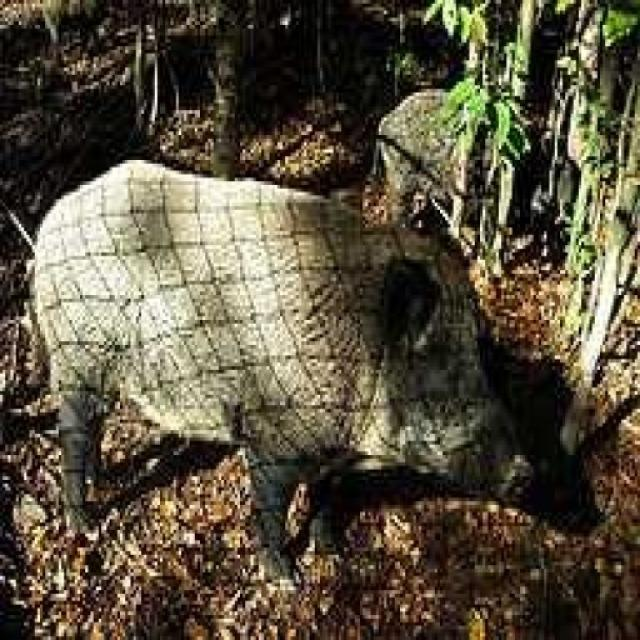pig: (9, 59, 624, 593)
